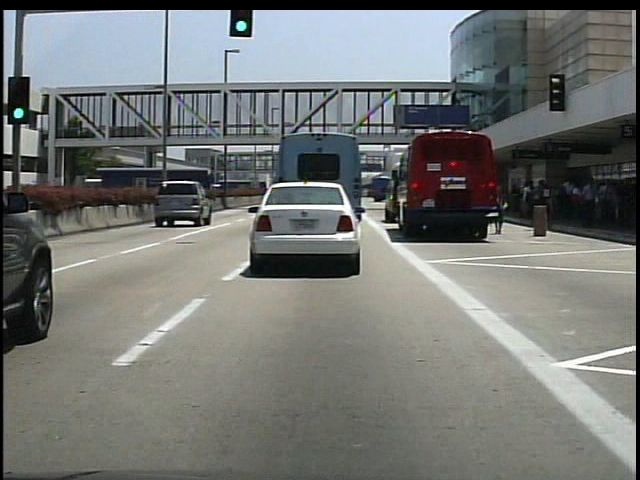person: (493, 186, 506, 237)
